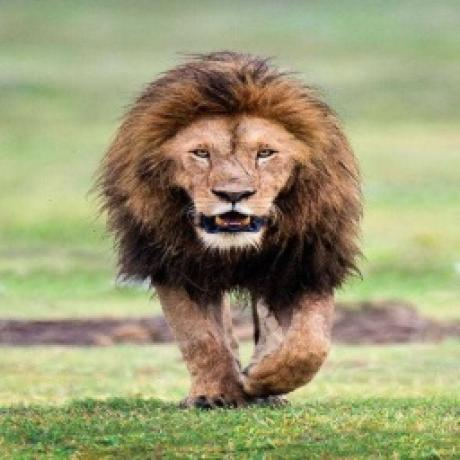Lion: (90, 50, 375, 412)
